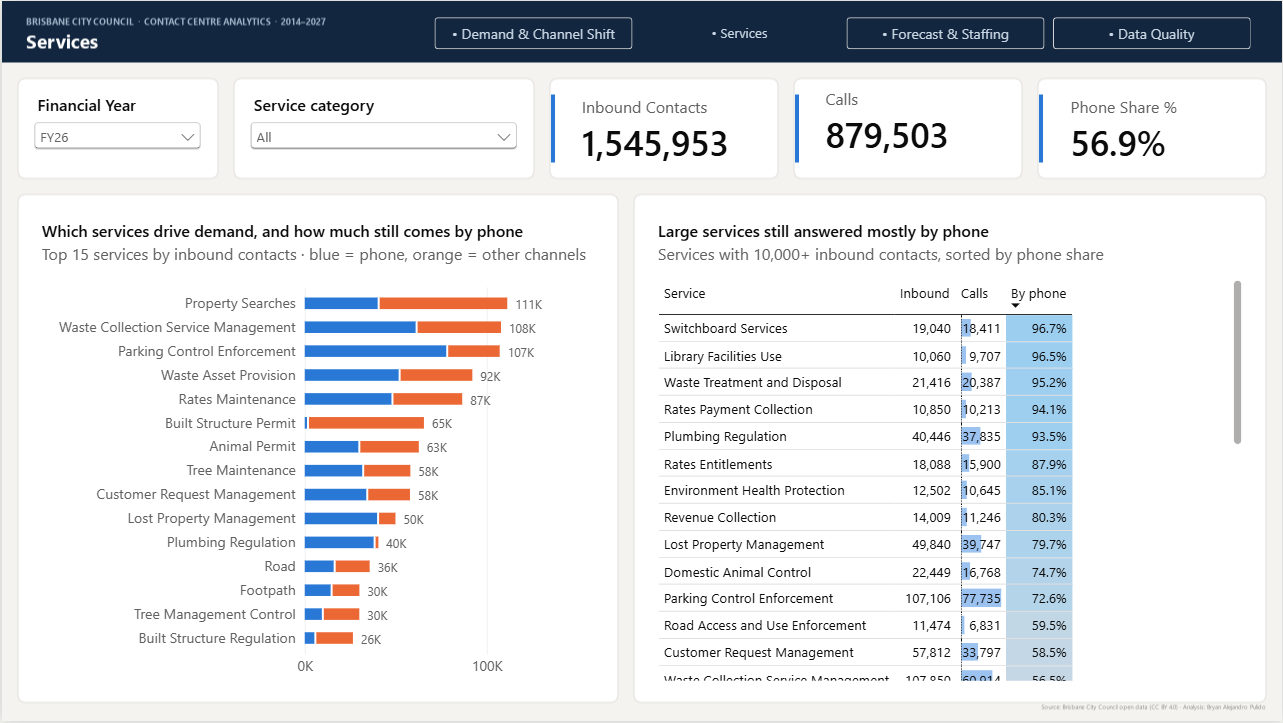

This screenshot's page, from the dashboard's own definition file:
{"tool":"powerbi","page":{"name":"• Services","canvas":[1280,720],"ordinal":1},"visuals":[{"type":"slicer","fields":{"Values":["bi dim_date.fy_label"]},"box":[28,92,176,76],"z":0},{"type":"slicer","fields":{"Values":["bi fact_enquiries.category"]},"box":[244,92,276,76],"z":1000},{"type":"cardVisual","fields":{"Data":["_Measures.Inbound Contacts"]},"box":[564,88,204,84],"z":2000},{"type":"cardVisual","fields":{"Data":["_Measures.Calls"]},"box":[808,80,204,84],"z":3000},{"type":"cardVisual","fields":{"Data":["_Measures.Phone Share %"]},"box":[1052,88,222,84],"z":4000},{"type":"barChart","title":"Which services drive demand, and how much still comes by phone","fields":{"Category":["bi fact_enquiries.service"],"Y":["_Measures.Calls","_Measures.Non-phone Contacts"]},"box":[24,204,584,492],"z":5000},{"type":"tableEx","title":"Large services still answered mostly by phone","fields":{"Values":["bi fact_enquiries.service","_Measures.Inbound Contacts","_Measures.Calls","_Measures.Phone Share %"]},"box":[640,204,616,492],"z":6000},{"type":"pageNavigator","box":[432,16,816,32],"z":6002}]}

Visuals, with their boxes in screenshot pixels (x1, y1, x2, y2), scaled from the page's 1280x720 canvas onto the 1283x723 screenshot:
slicer - bi dim_date.fy_label: bbox(28, 92, 204, 169)
slicer - bi fact_enquiries.category: bbox(245, 92, 521, 169)
cardVisual - _Measures.Inbound Contacts: bbox(565, 88, 770, 173)
cardVisual - _Measures.Calls: bbox(810, 80, 1014, 165)
cardVisual - _Measures.Phone Share %: bbox(1054, 88, 1277, 173)
"Which services drive demand, and how much still comes by phone" barChart: bbox(24, 205, 609, 699)
"Large services still answered mostly by phone" tableEx: bbox(642, 205, 1259, 699)
pageNavigator: bbox(433, 16, 1251, 48)
